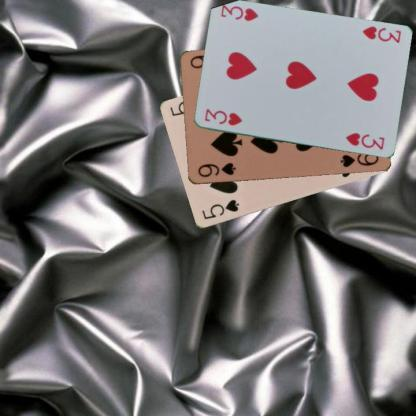3h: (202, 106, 243, 127), (360, 24, 402, 44)
5s: (199, 197, 240, 221)
9s: (195, 160, 237, 179)
